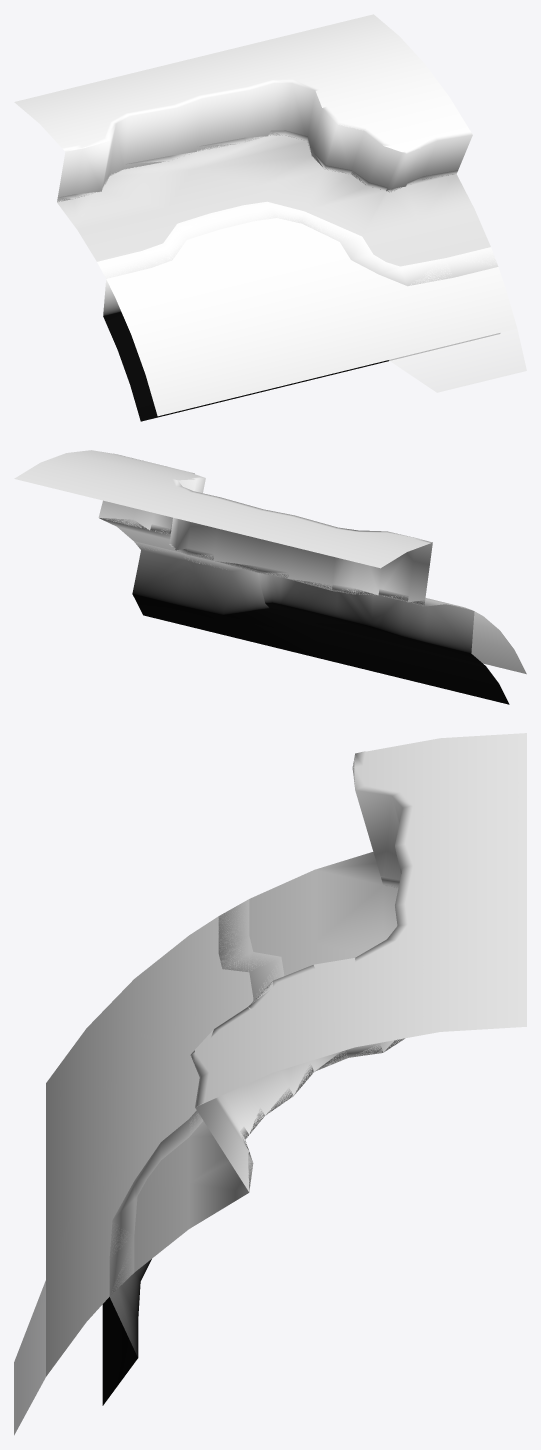
The model's file is grd_Msw_s_0.dae.
3 renders of one model, top to bottom at view 1: azimuth 30°, elevation 25°; view 2: azimuth 150°, elevation 25°; view 3: azimuth 270°, elevation 25°, orthographic. The views are drawn at different scales.
Parts seen in each view (by area): view 1: grd_Msw_s_0; view 2: grd_Msw_s_0; view 3: grd_Msw_s_0.
Part boxes in pixels (box(x1,y1,x2,y2)): grd_Msw_s_0: box(14, 14, 526, 421); grd_Msw_s_0: box(14, 450, 526, 704); grd_Msw_s_0: box(14, 733, 526, 1435).
Bounding box in the file's own units: 512 × 332 × 378.
6 materials, 1 textured.
